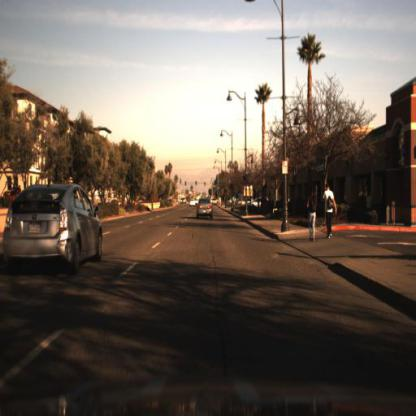car: (1, 180, 104, 285), (195, 197, 217, 222)
pedestrian: (319, 179, 342, 241), (305, 186, 321, 248)
